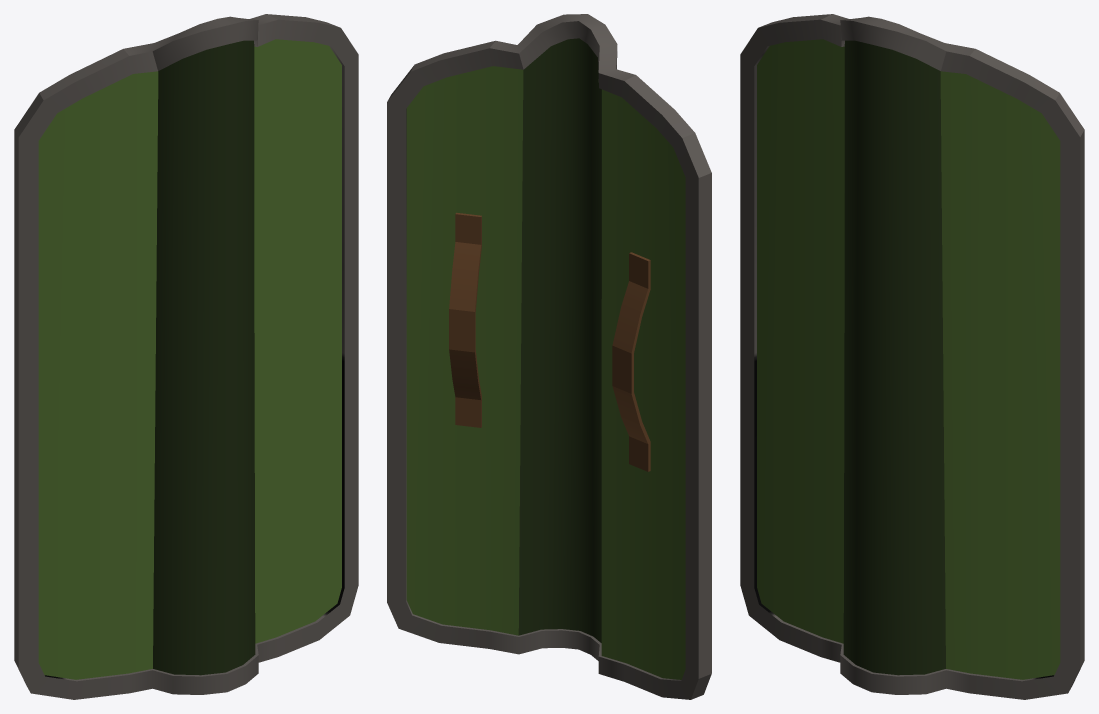
Rendered from Pavise Shield_Green.fbx.
The picture shows the model from 3 angles, left to right: view 1: azimuth 30°, elevation 25°; view 2: azimuth 150°, elevation 25°; view 3: azimuth 330°, elevation 25°; orthographic projection. The views are drawn at different scales.
Visible parts, largest first — view 1: Pavise Shield_Green_Baked; view 2: Pavise Shield_Green_Baked; view 3: Pavise Shield_Green_Baked.
Part boxes in pixels (x1,y1,x2,y2): Pavise Shield_Green_Baked: (14, 14, 358, 699); Pavise Shield_Green_Baked: (387, 14, 711, 699); Pavise Shield_Green_Baked: (740, 14, 1084, 699).
Bounding box in the file's own units: 65.21 × 122 × 16.93.
Materials: 1 (1 with a texture image).
